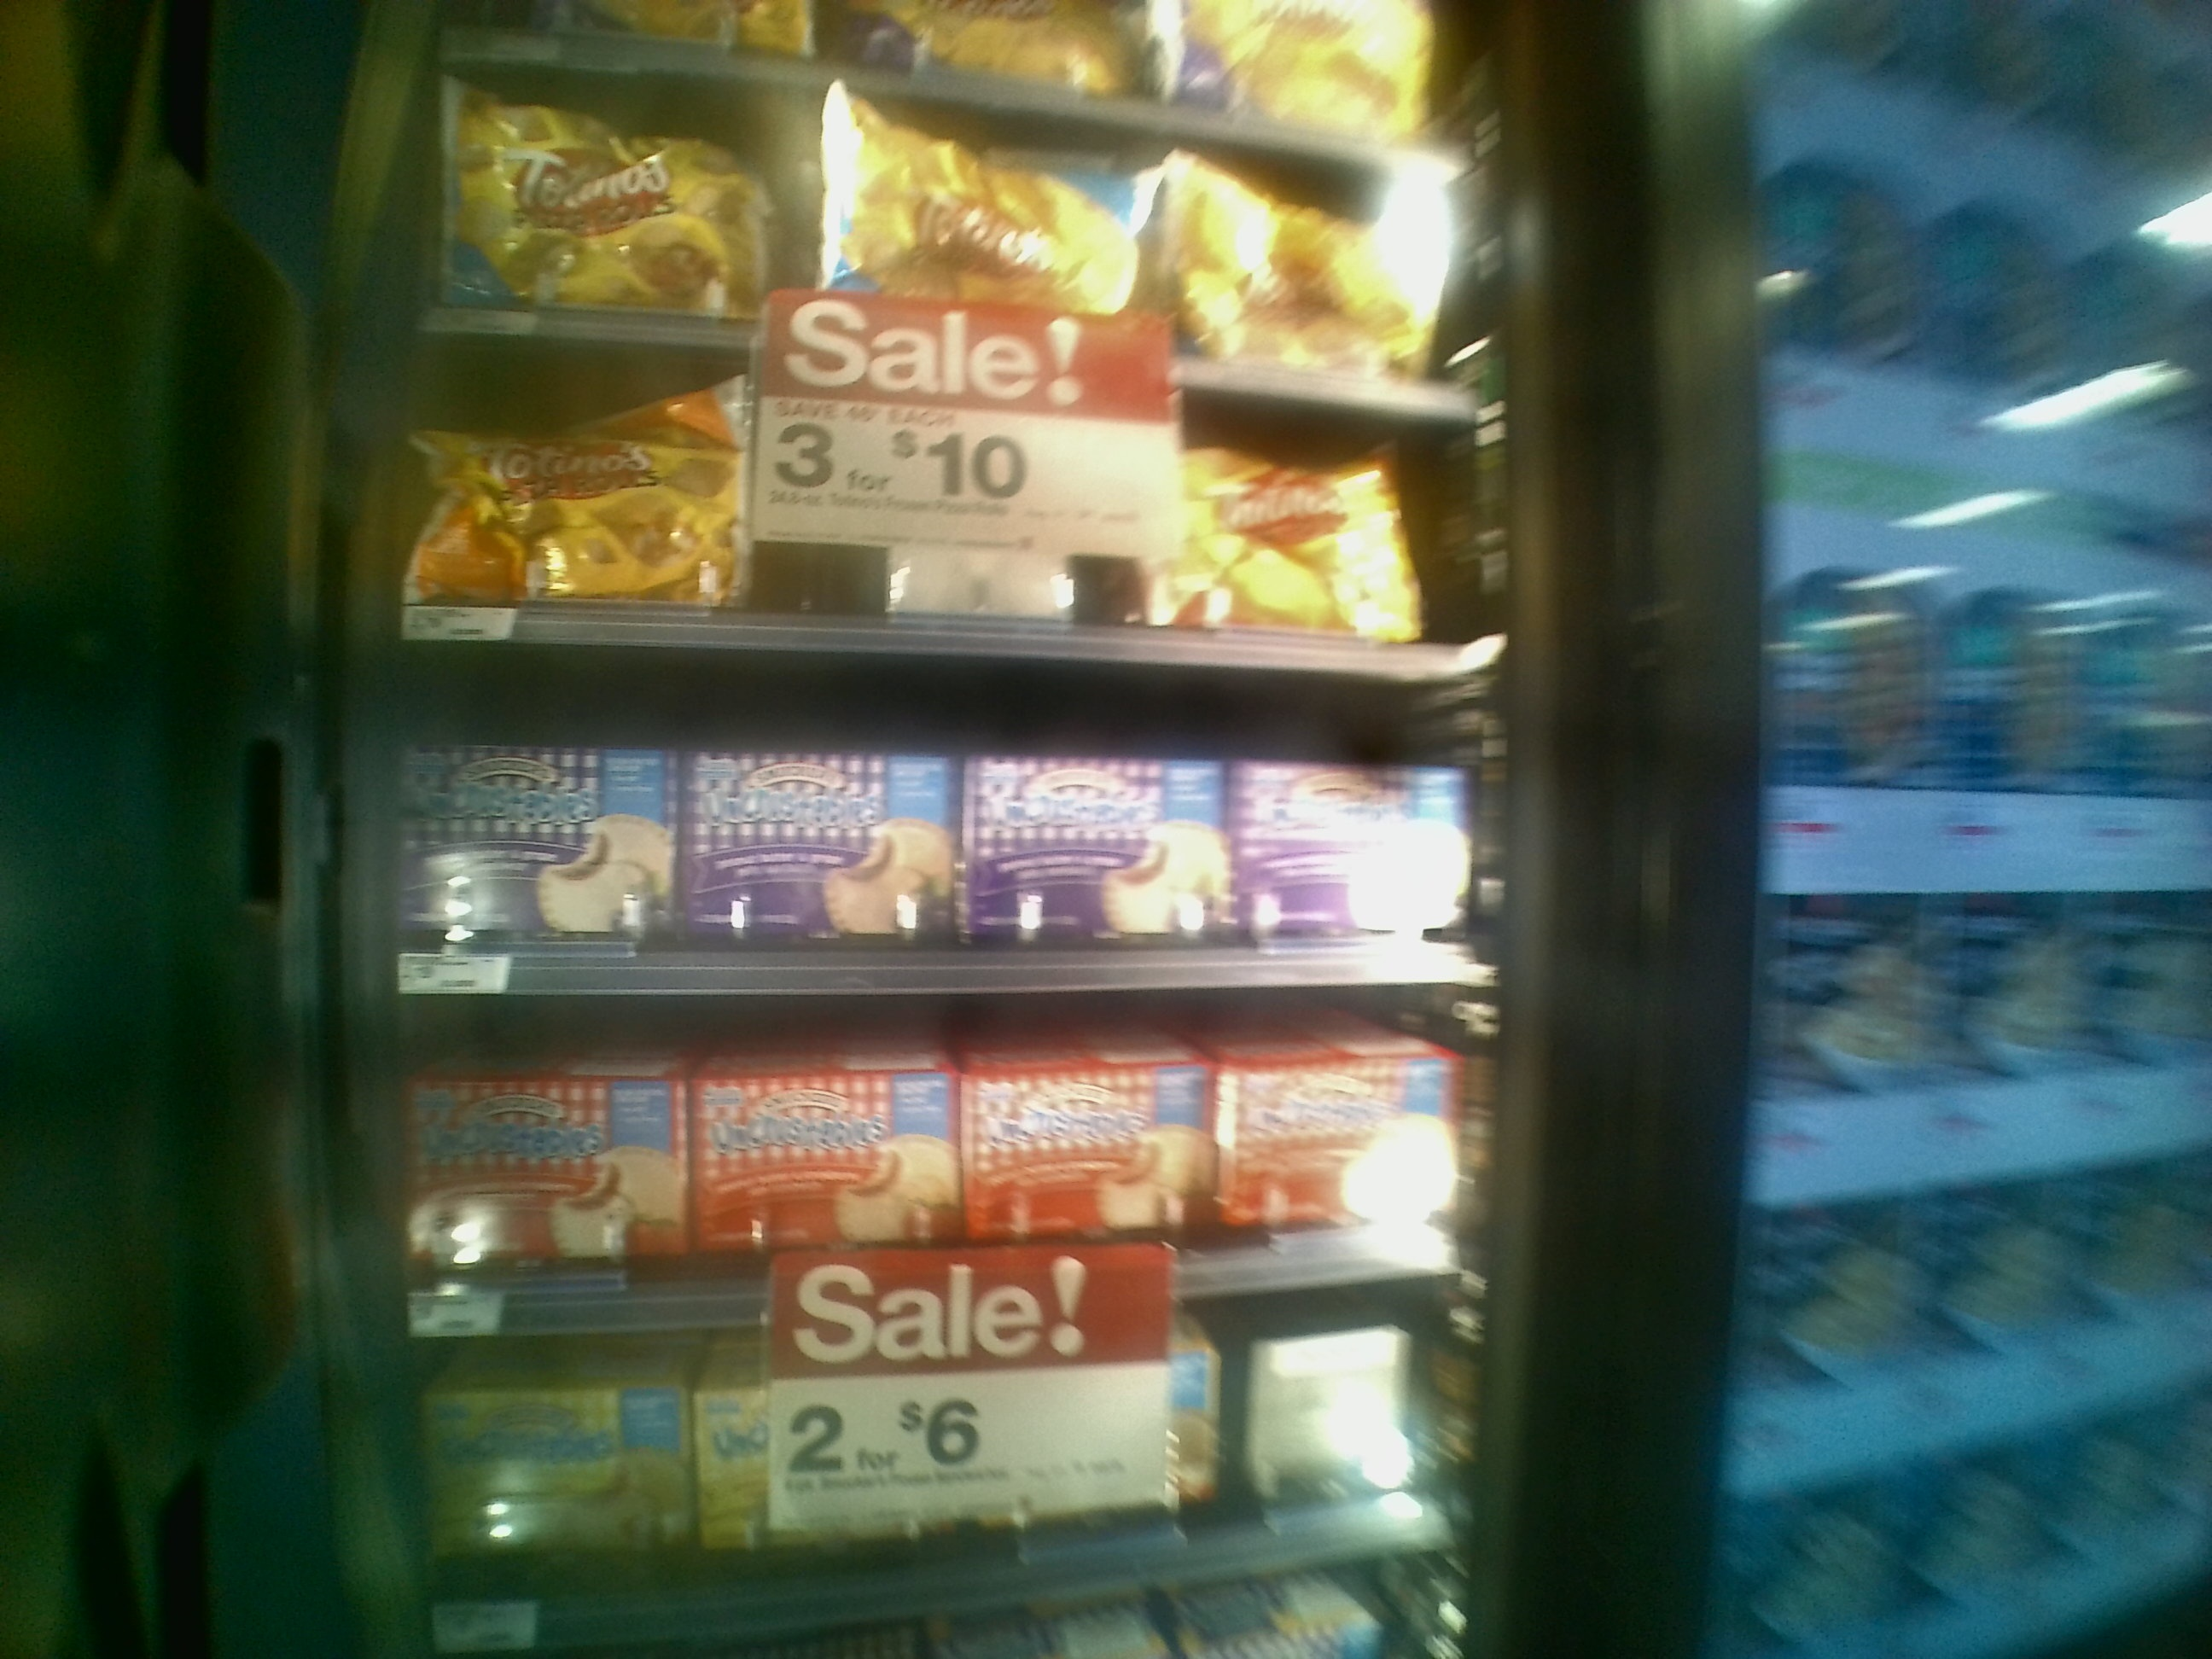shelf: (383, 307, 1491, 685), (359, 653, 1496, 992), (380, 1302, 1470, 1631), (350, 986, 1474, 1300)
